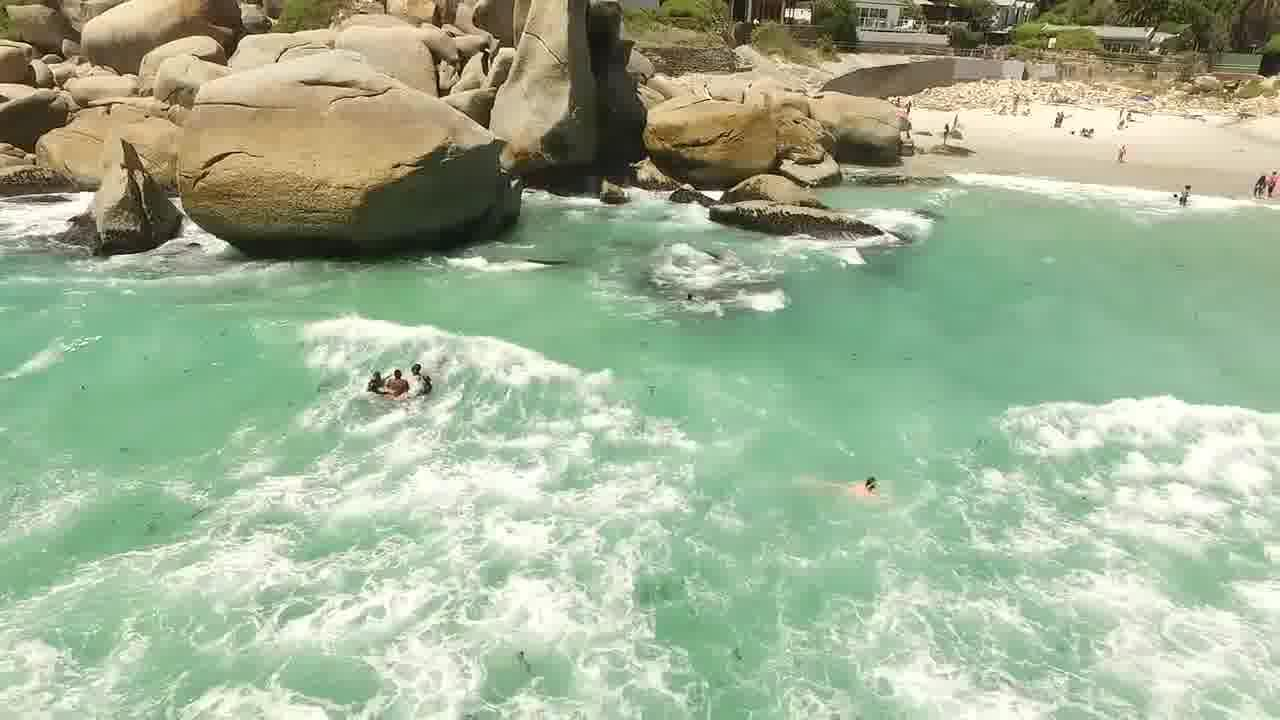human: (348, 358, 455, 410), (829, 456, 902, 501), (1246, 161, 1280, 203), (1171, 170, 1193, 217), (668, 291, 725, 308), (1103, 134, 1134, 165)
